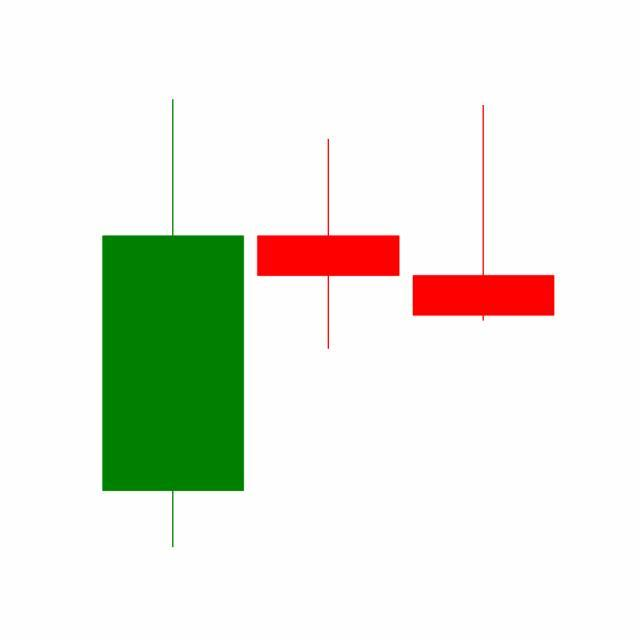Spinning Top: (250, 138, 407, 353)
